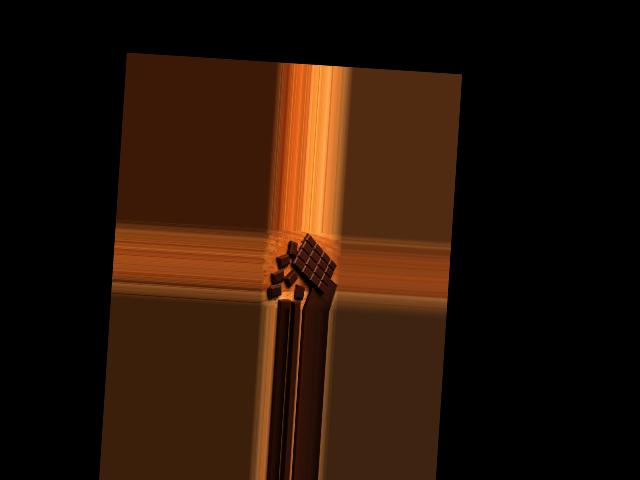chocolate: (287, 234, 338, 294)
